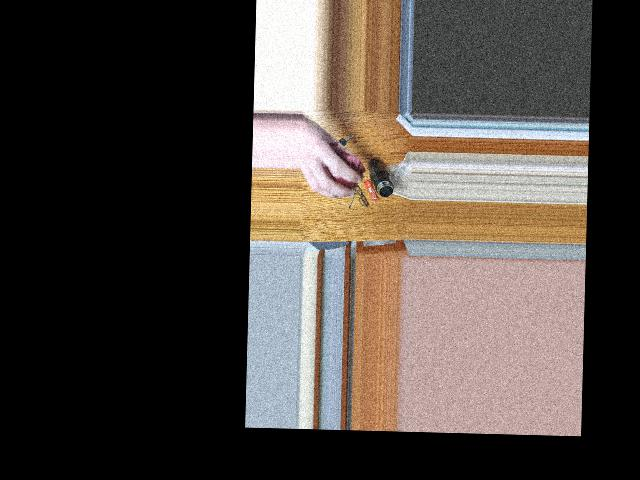onion: (326, 148, 359, 192)
